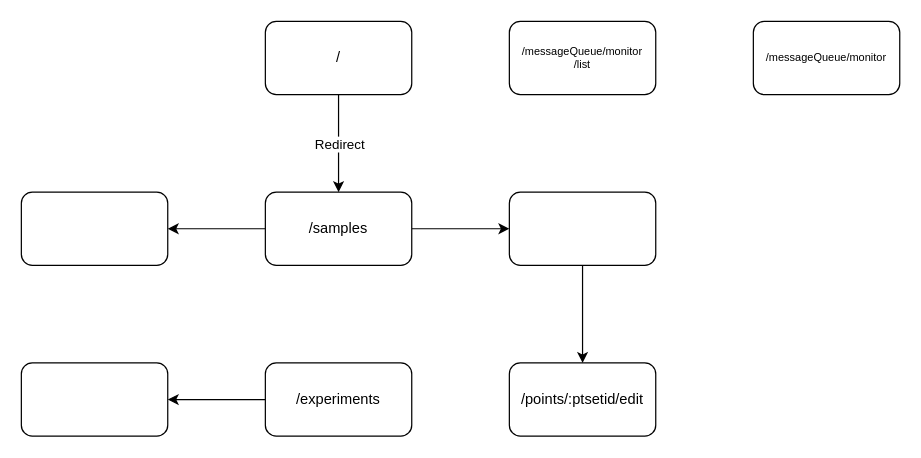
Image size: 921x458. Some labels were removed from this diagram. Each missing label, with the centre of its shape:
"/experiments/item/:id" goes at (94,399).
"/points/:sampleid" goes at (582,228).
"/samples/add" goes at (94,228).
